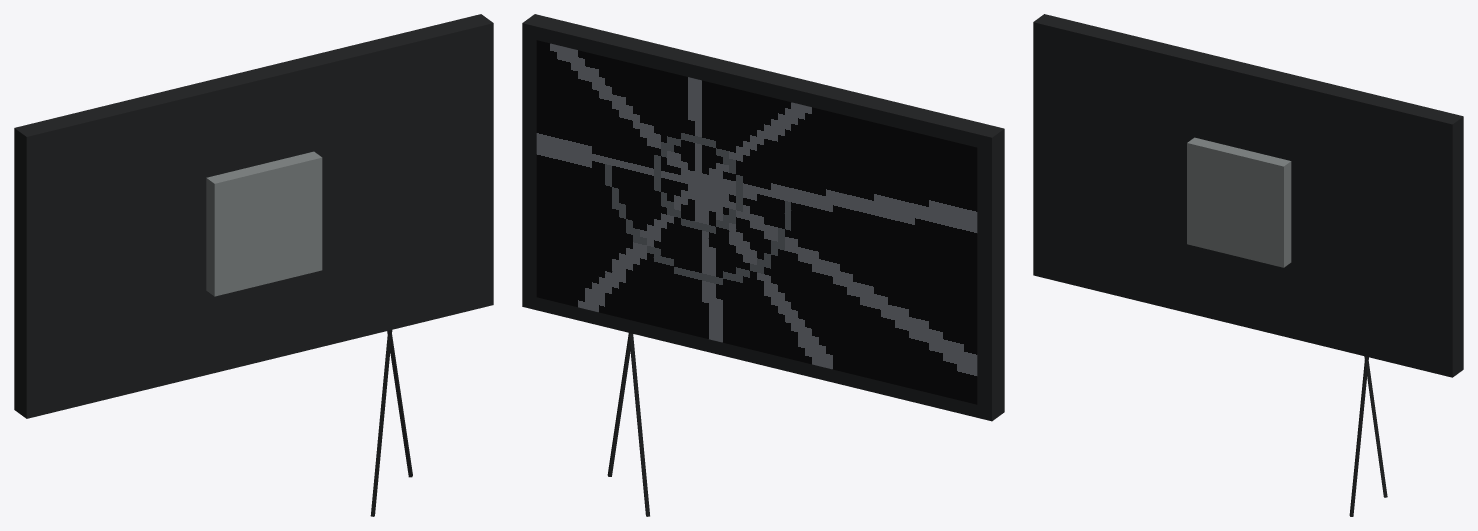
File: tv_cracked.fbx
The picture shows the model from 3 angles, left to right: view 1: azimuth 30°, elevation 25°; view 2: azimuth 150°, elevation 25°; view 3: azimuth 330°, elevation 25°; orthographic projection. The views are drawn at different scales.
Parts seen in each view (by area): view 1: tv_cracked; view 2: tv_cracked; view 3: tv_cracked.
Part boxes in pixels (x1=…): tv_cracked: x1=14, y1=14, x2=493, y2=516; tv_cracked: x1=522, y1=14, x2=1004, y2=516; tv_cracked: x1=1033, y1=14, x2=1463, y2=516.
Bounding box in the file's own units: 1.3 × 1.24 × 0.101.
